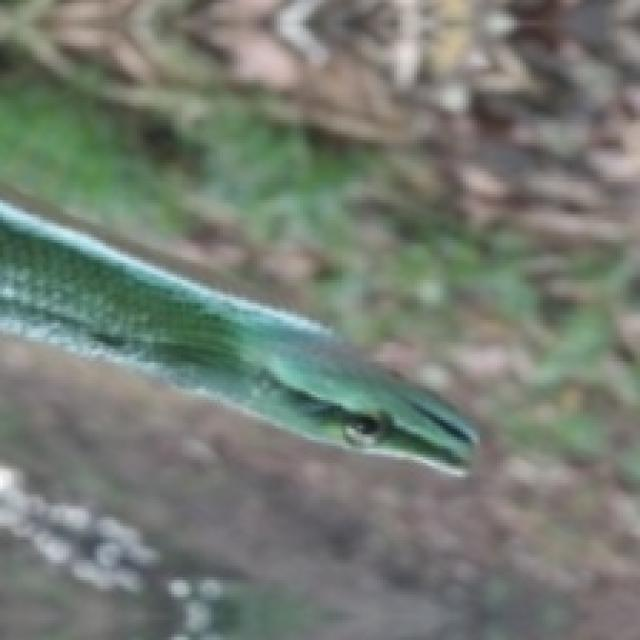red-tailed green ratsnake: (0, 200, 474, 469)
